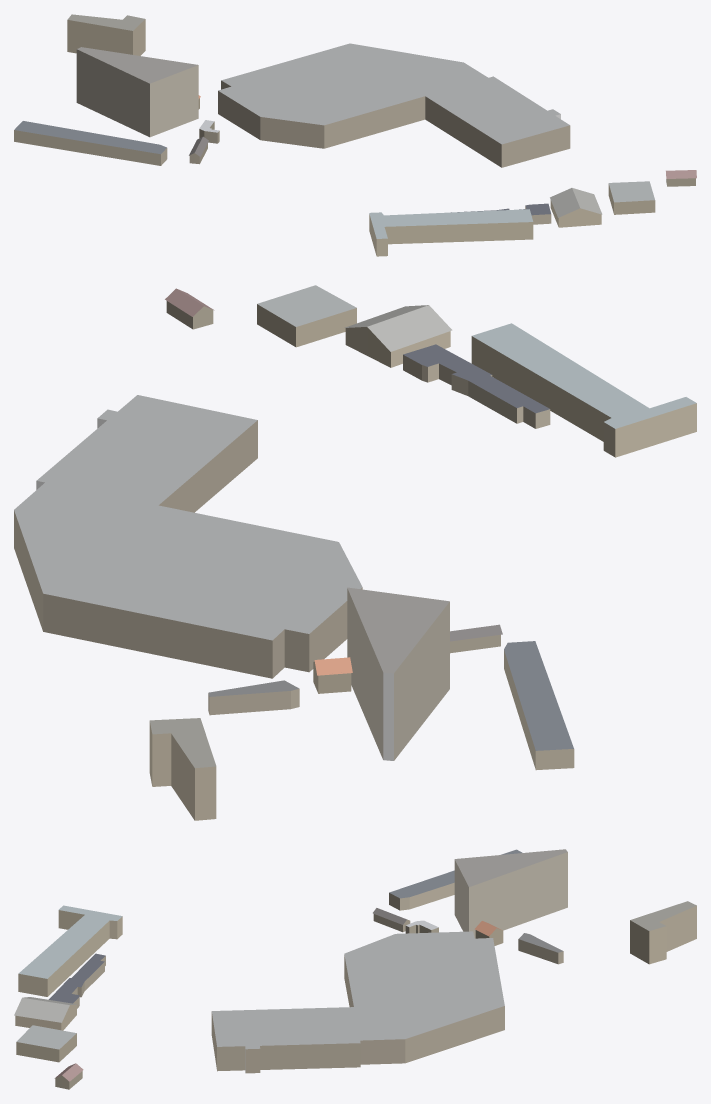
3 renders of one model, top to bottom at view 1: azimuth 30°, elevation 25°; view 2: azimuth 150°, elevation 25°; view 3: azimuth 270°, elevation 25°, orthographic. The views are drawn at different scales.
Visible parts, largest first — view 1: tuile; view 2: tuile; view 3: tuile.
Boxes of the visible parts, x1,y1,x2,y2 form: tuile: (14,14,696,256); tuile: (14,285,696,820); tuile: (14,849,696,1089).
Bounding box in the file's own units: 218 × 25.91 × 267.
